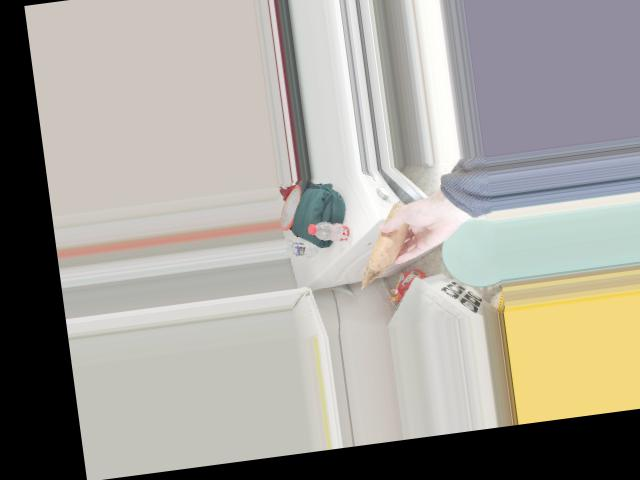sweet_potato: (362, 215, 412, 266)
